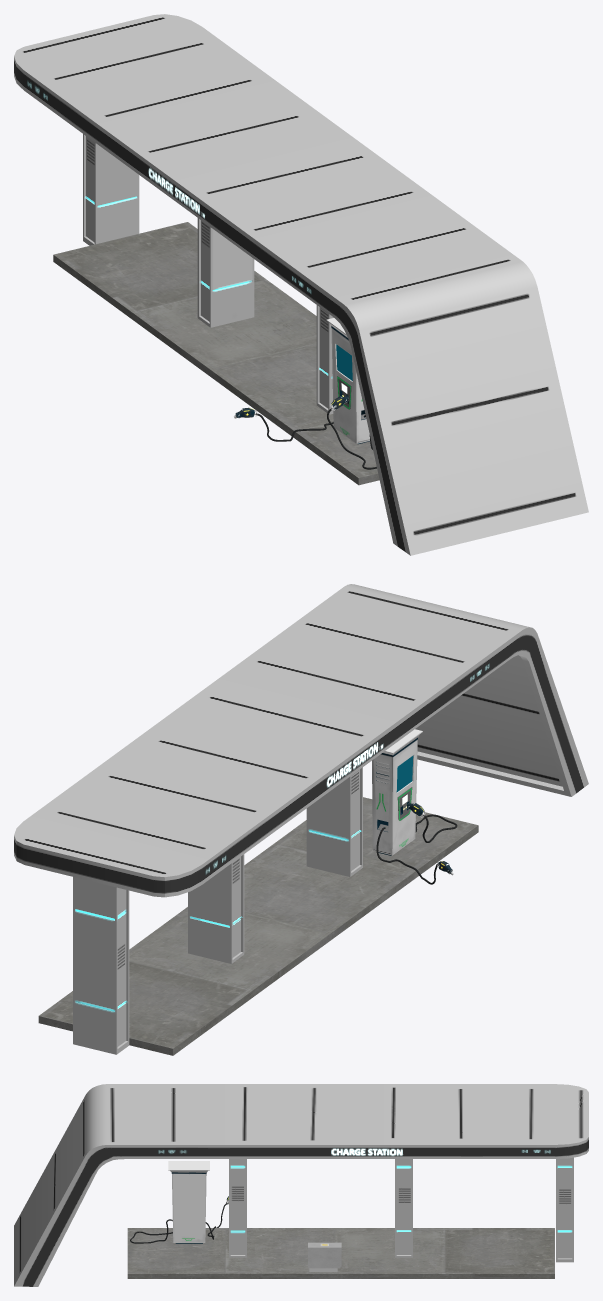
Rendered from EstacionCargaFurtivo.fbx.
3 renders of one model, top to bottom at view 1: azimuth 30°, elevation 25°; view 2: azimuth 150°, elevation 25°; view 3: azimuth 270°, elevation 25°, orthographic. The views are drawn at different scales.
Parts seen in each view (by area): view 1: TechoPlataforma, Base, Planta; view 2: TechoPlataforma, Base, Planta; view 3: TechoPlataforma, Base, Planta, Contadore.
Part boxes in pixels (x1,y1,x2,y2): TechoPlataforma: [14, 14, 588, 555]; Base: [53, 222, 379, 485]; Planta: [326, 318, 369, 444]; TechoPlataforma: [14, 584, 588, 1054]; Base: [38, 797, 478, 1055]; Planta: [372, 729, 422, 855]; TechoPlataforma: [14, 1084, 588, 1286]; Base: [127, 1228, 554, 1278]; Planta: [168, 1161, 209, 1243]; Contadore: [308, 1242, 341, 1271].
Bounding box in the file's own units: 381 × 371 × 1361.
